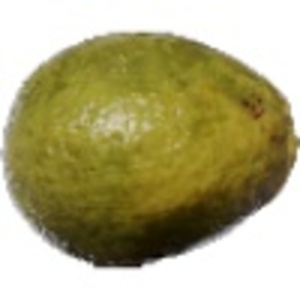goiaba: (8, 21, 292, 277)
